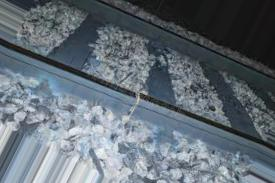tracks_fault: (124, 82, 151, 124)
